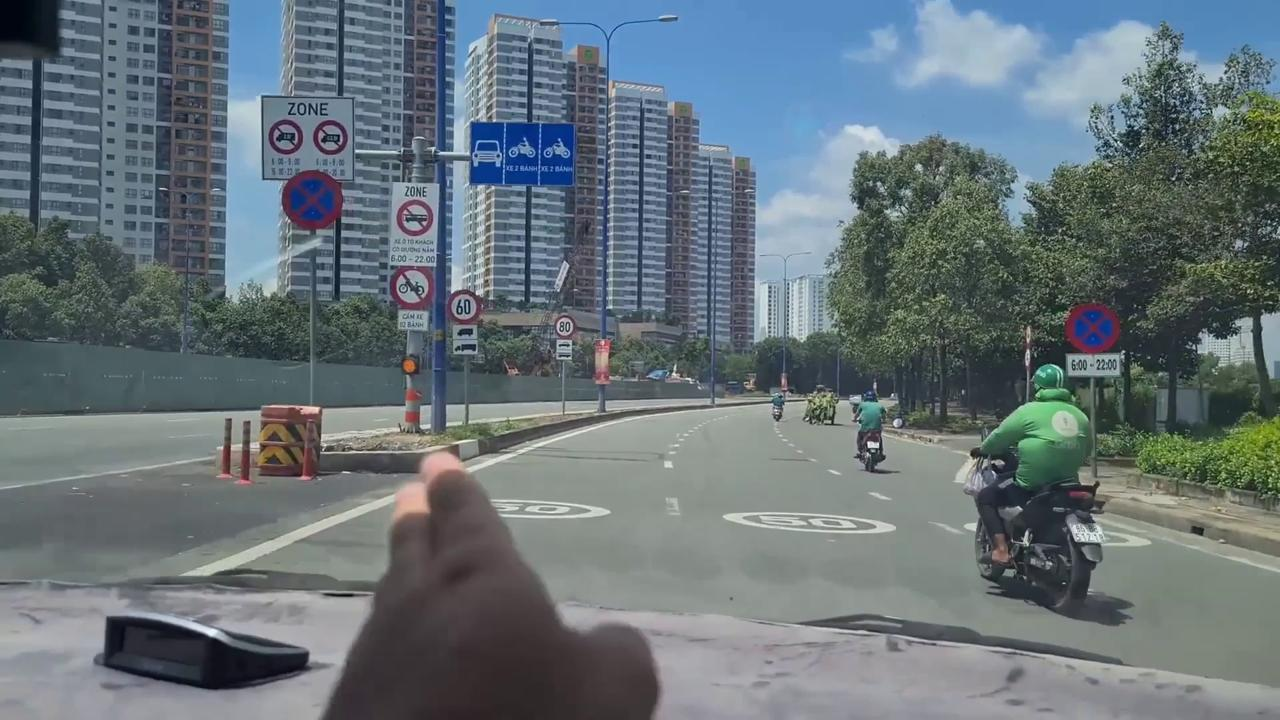Biển phụ: (1064, 352, 1122, 377), (450, 324, 480, 356), (397, 309, 430, 332), (556, 338, 572, 361)
Cấm cac phương tiện hoạt động trong khung giờ cố định: (259, 94, 355, 182), (389, 180, 438, 268)
Cấm dừng - Cấm đỗ: (280, 168, 345, 230), (1063, 302, 1122, 353)
Cấm xe máy: (389, 265, 435, 309)
GIơi hạn tốc độ 60Km/h: (446, 288, 483, 325)
Giới hạn tốc độ 80Km/h: (554, 314, 577, 338)
Làn đường cho từng xe: (466, 119, 576, 187)
